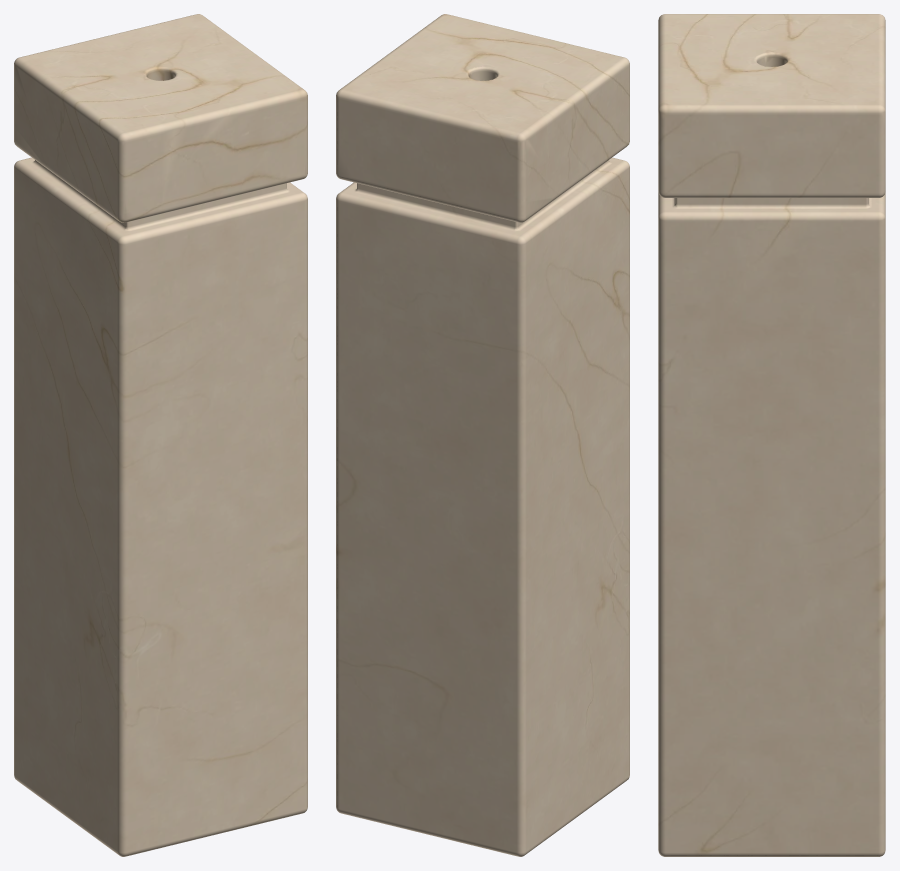
Rendered from queen-white-hd.glb.
3 renders of one model, left to right at view 1: azimuth 30°, elevation 25°; view 2: azimuth 150°, elevation 25°; view 3: azimuth 270°, elevation 25°, orthographic. The views are drawn at different scales.
Parts seen in each view (by area): view 1: dama_bily; view 2: dama_bily; view 3: dama_bily.
Boxes of the visible parts, x1,y1,x2,y2 form: dama_bily: (14,14,307,856); dama_bily: (336,14,629,856); dama_bily: (658,14,885,856).
Size of the model in its own units: 0.4329 by 1.58 by 0.4329.
1 material, 1 textured.
